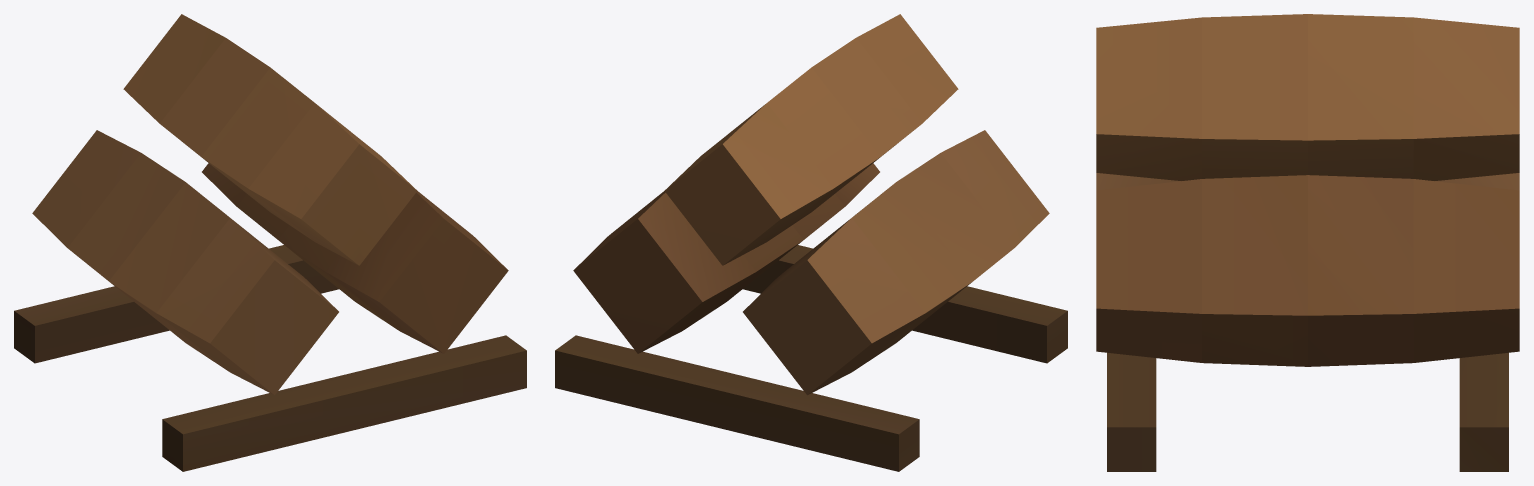
File: rb_rack_lo-COx9uM34.glb
The picture shows the model from 3 angles, left to right: view 1: azimuth 30°, elevation 25°; view 2: azimuth 150°, elevation 25°; view 3: azimuth 270°, elevation 25°; orthographic projection. The views are drawn at different scales.
Bounding box in the file's own units: 1.34 × 1.12 × 1.2.
